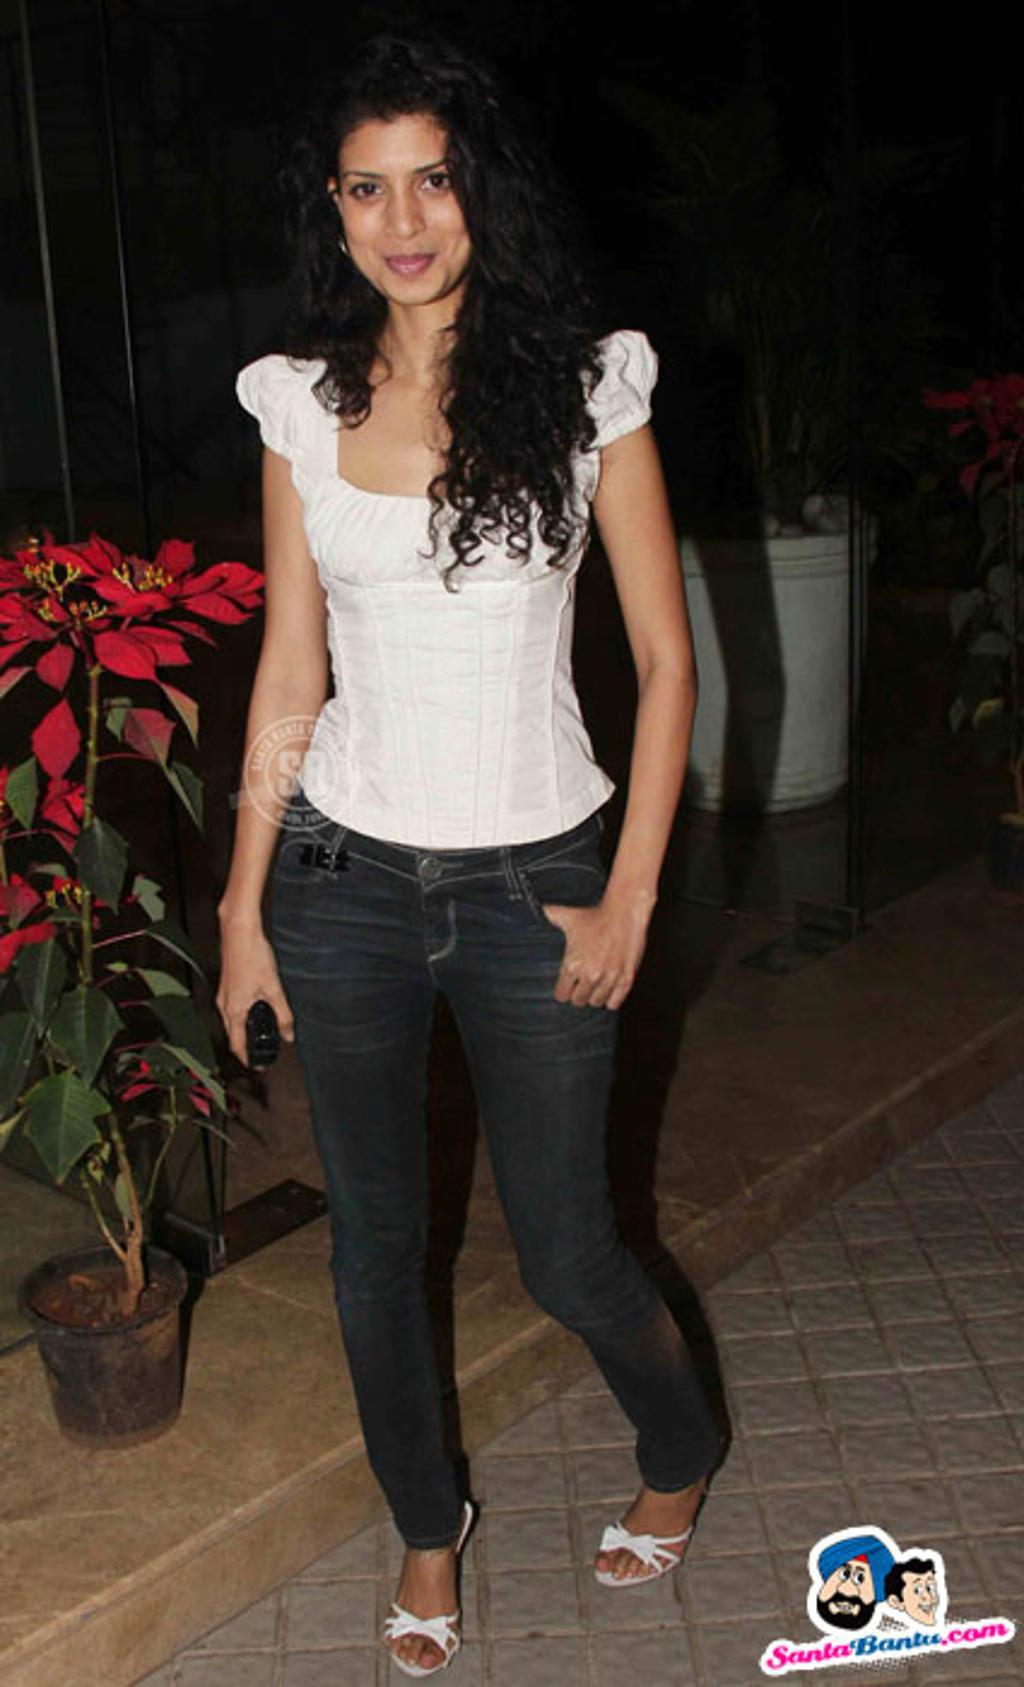face: (340, 120, 478, 304)
